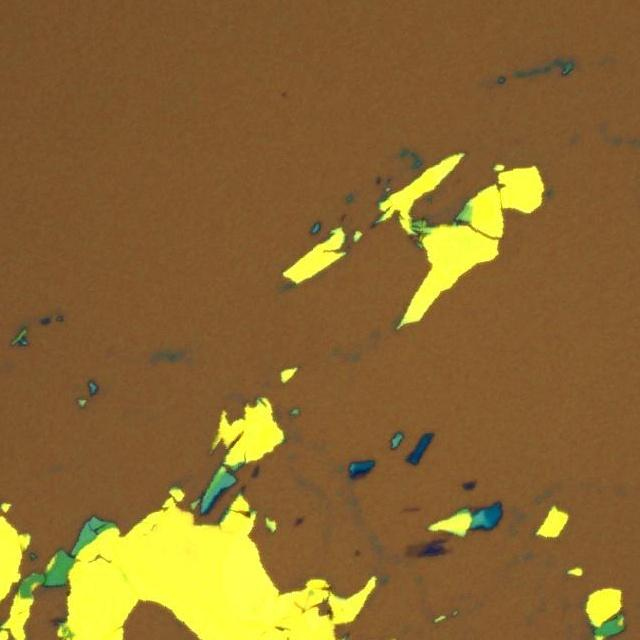monolayer-eWW4: (406, 544, 426, 556)
